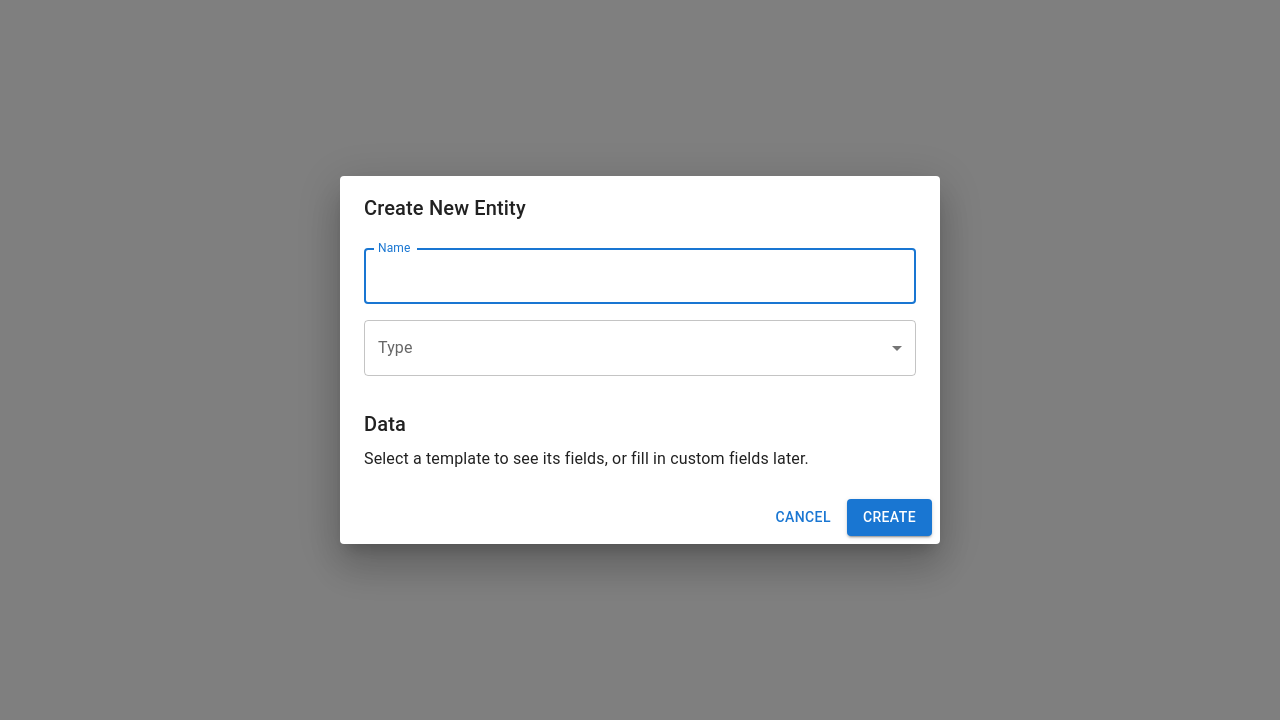
EntityForm › shows dynamic fields when a template is selected
# Open the select dropdown
Press the mouse on the dropdown named "Type" at (640, 348), box [364,320,916,376]
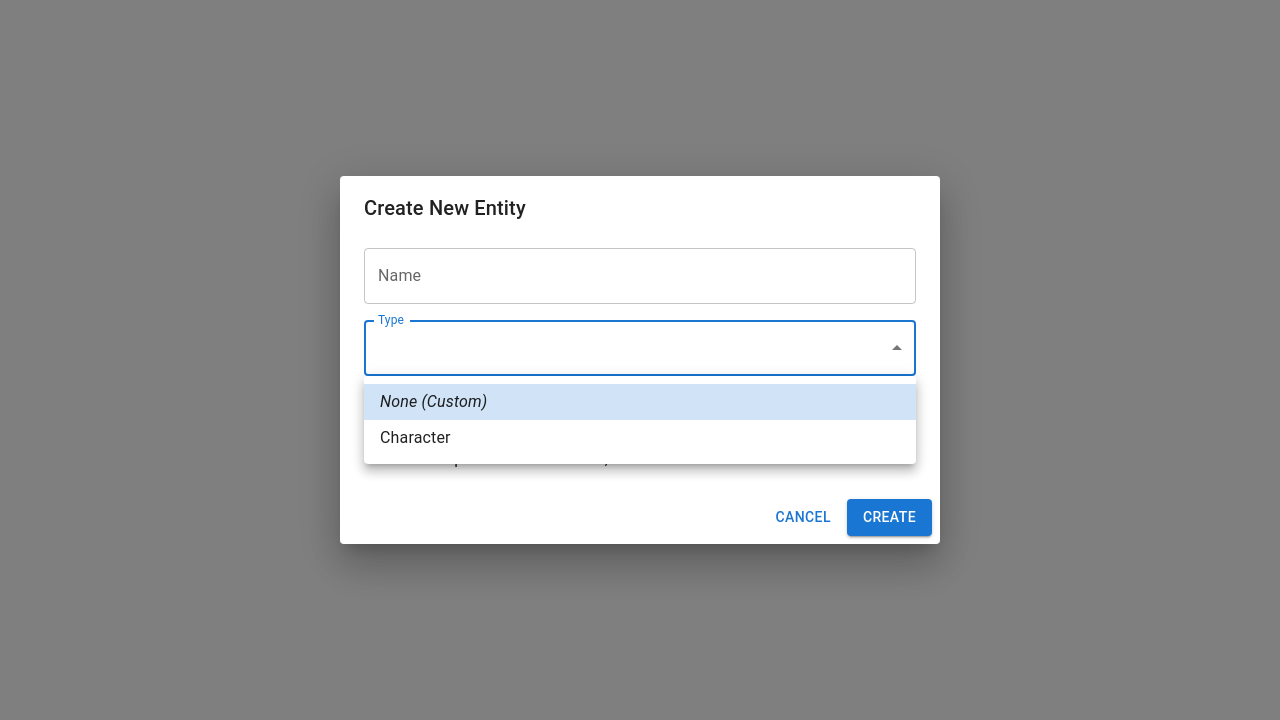
# Select the 'Character' template
Click the option "Character" at (415, 438), box [380,428,451,447]
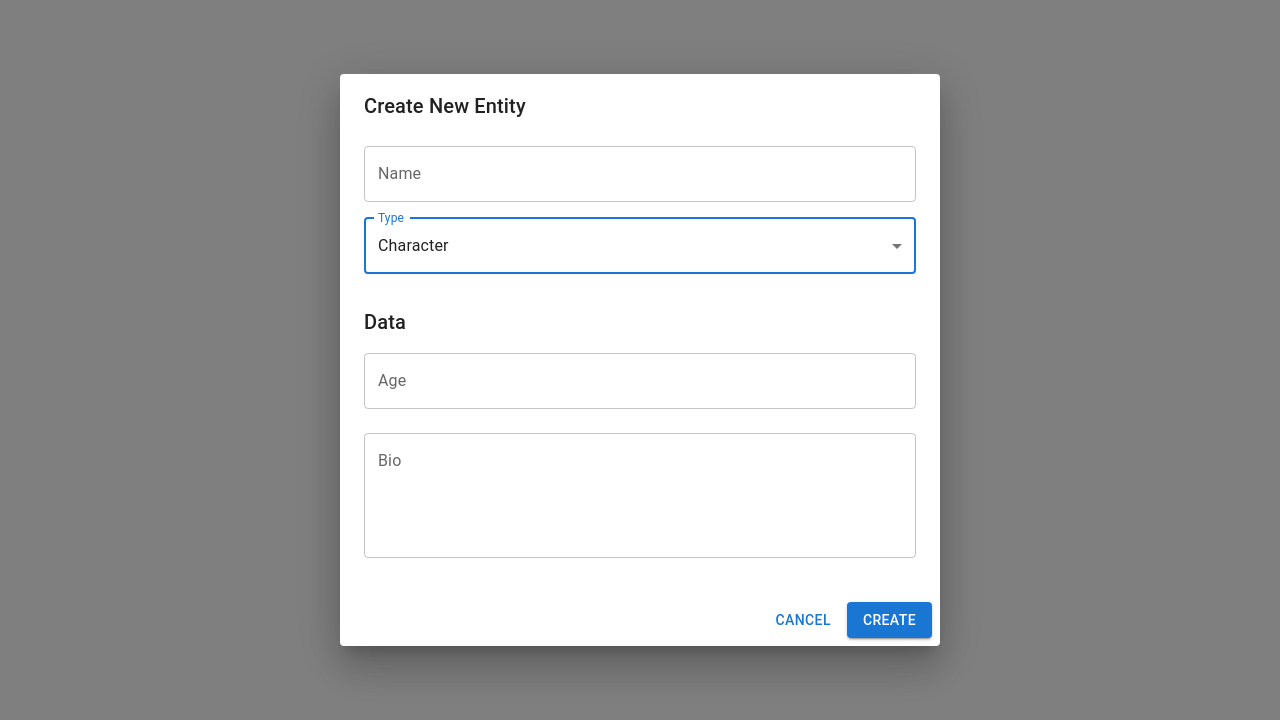
Result: the number field labelled "Age" is shown at [364,353,916,409]
Result: the text box labelled "Bio" is shown at [378,449,902,541]
